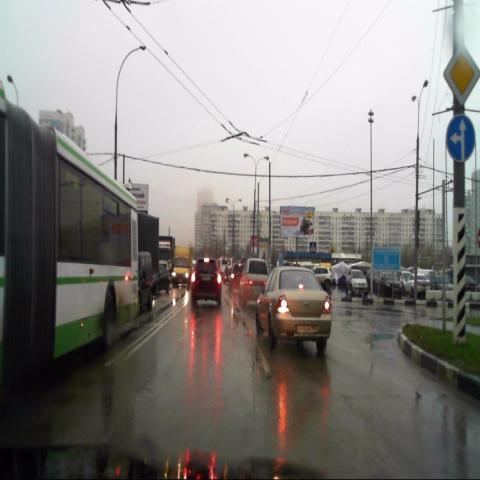2_1: (442, 43, 480, 105)
4_1_5: (447, 115, 475, 162)
